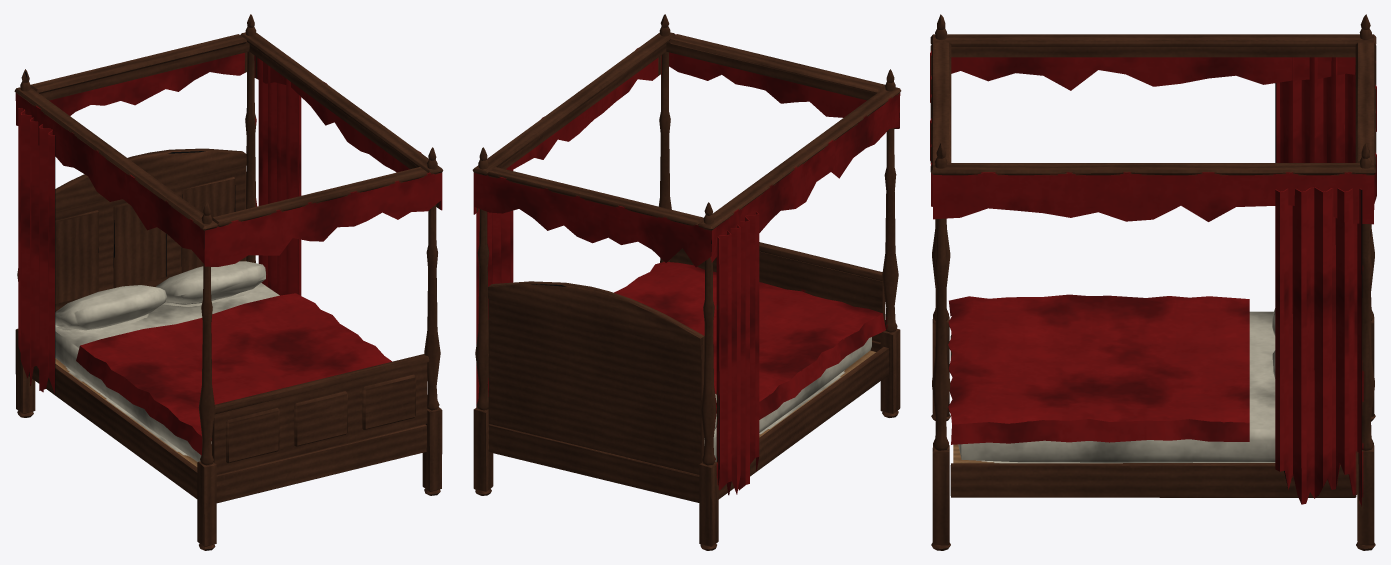
File: FourPosterBed.fbx
3 renders of one model, left to right at view 1: azimuth 30°, elevation 25°; view 2: azimuth 150°, elevation 25°; view 3: azimuth 270°, elevation 25°, orthographic. The views are drawn at different scales.
Visible parts, largest first — view 1: FourPosterBed; view 2: FourPosterBed; view 3: FourPosterBed.
Part boxes in pixels (<box>): FourPosterBed: <box>14,14,443,550</box>; FourPosterBed: <box>472,14,901,550</box>; FourPosterBed: <box>930,14,1376,550</box>.
Bounding box in the file's own units: 1.7 × 2.23 × 2.23.
